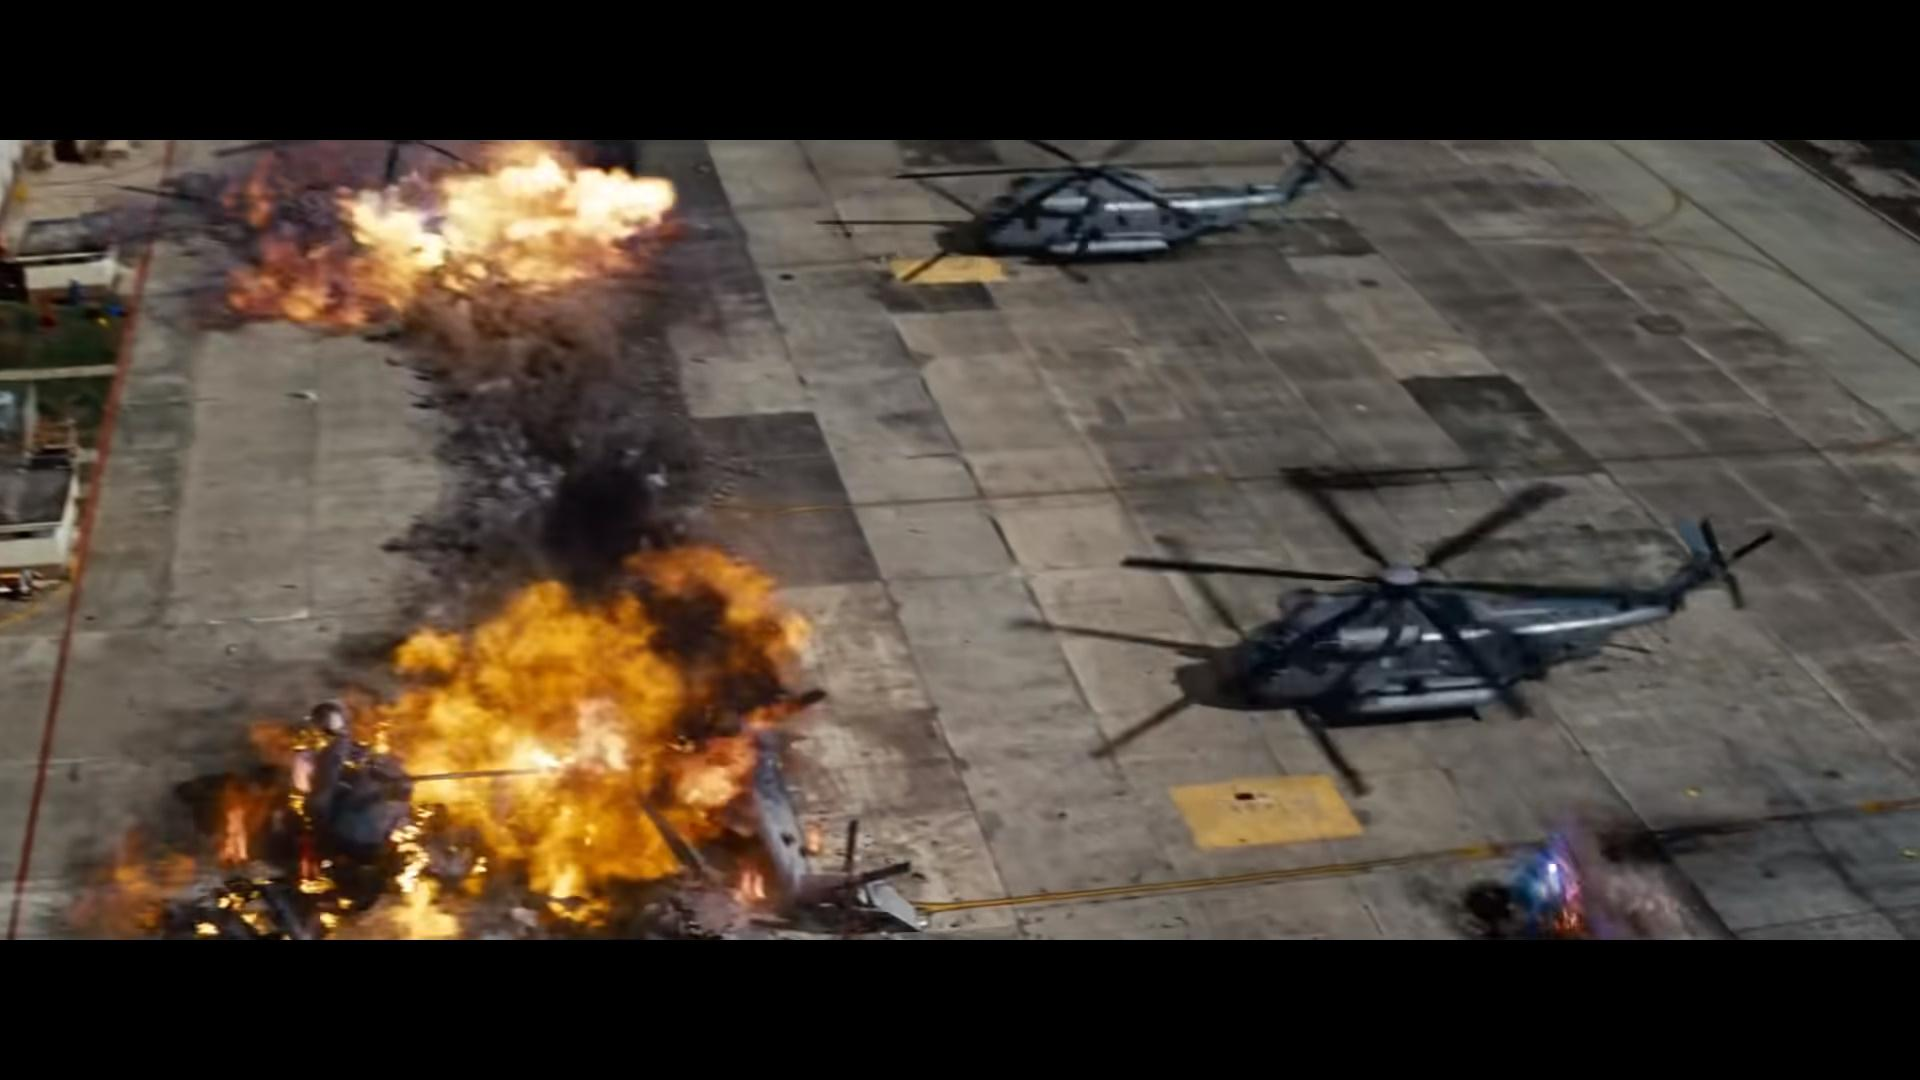fire: (108, 535, 833, 942), (222, 113, 680, 327)
